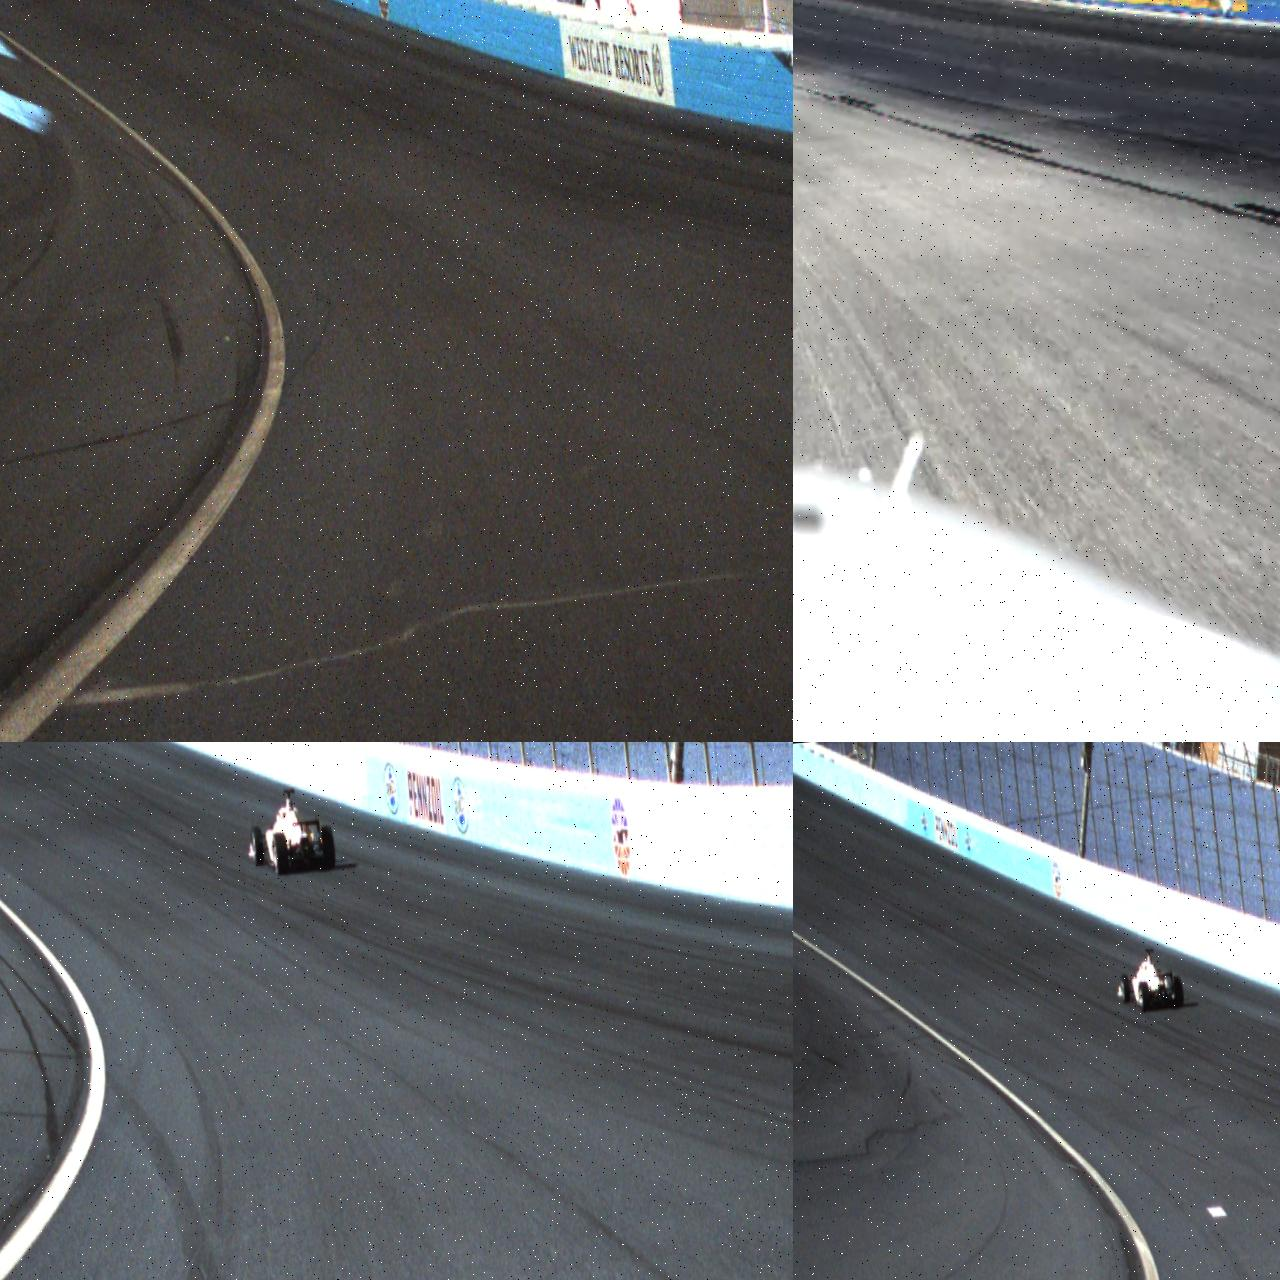AV: (241, 785, 338, 877), (1114, 946, 1185, 1014)
Wheel: (271, 833, 290, 874), (320, 825, 336, 869), (251, 828, 265, 866), (1137, 981, 1151, 1012), (1172, 975, 1185, 1008), (1121, 974, 1130, 1003)
